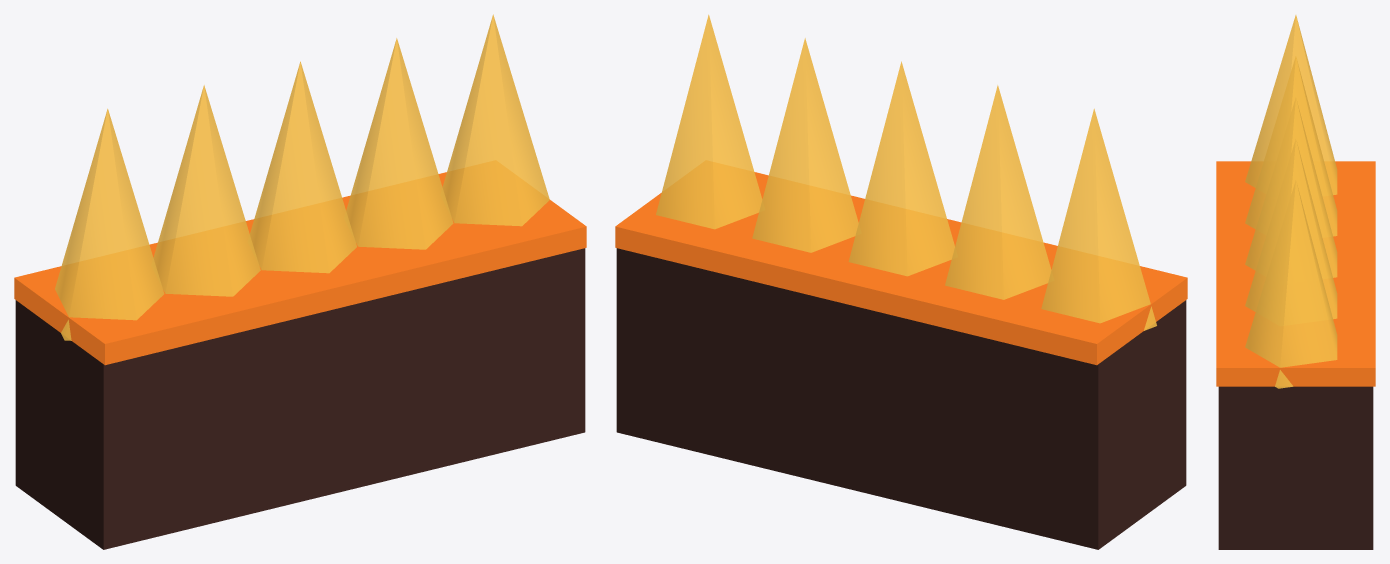
The model's file is jump-barrier.glb.
3 views of the same model, side by side, from view 1: azimuth 30°, elevation 25°; view 2: azimuth 150°, elevation 25°; view 3: azimuth 270°, elevation 25° (orthographic). The views are drawn at different scales.
Parts seen in each view (by area): view 1: hell jump-barrier; view 2: hell jump-barrier; view 3: hell jump-barrier.
Part boxes in pixels (left/top/right/bottom): hell jump-barrier: left=14, top=14, right=586, bottom=549; hell jump-barrier: left=615, top=14, right=1187, bottom=549; hell jump-barrier: left=1216, top=15, right=1375, bottom=549.
Bounding box in the file's own units: 1.94 × 1.5 × 0.62.
